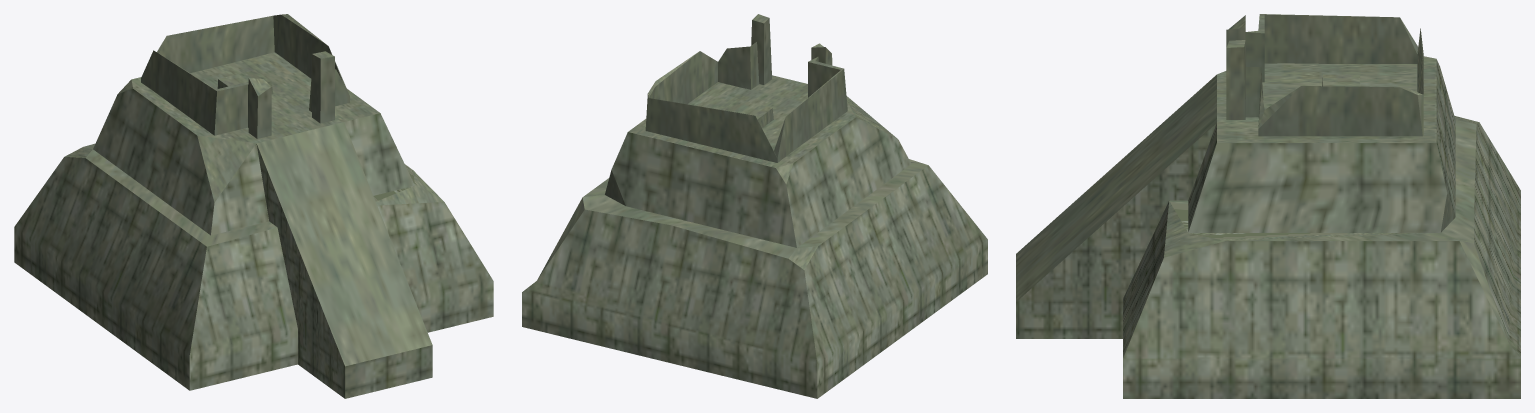
File: thm_nboo_gungan_imprv_building_s01_l2.fbx
The picture shows the model from 3 angles, left to right: view 1: azimuth 30°, elevation 25°; view 2: azimuth 150°, elevation 25°; view 3: azimuth 270°, elevation 25°; orthographic projection. The views are drawn at different scales.
Visible parts, largest first — view 1: mesh_node; view 2: mesh_node; view 3: mesh_node.
Boxes of the visible parts, x1,y1,x2,y2 form: mesh_node: [14, 14, 493, 398]; mesh_node: [522, 14, 987, 398]; mesh_node: [1016, 14, 1520, 398].
Bounding box in the file's own units: 31.25 × 25 × 39.65.
